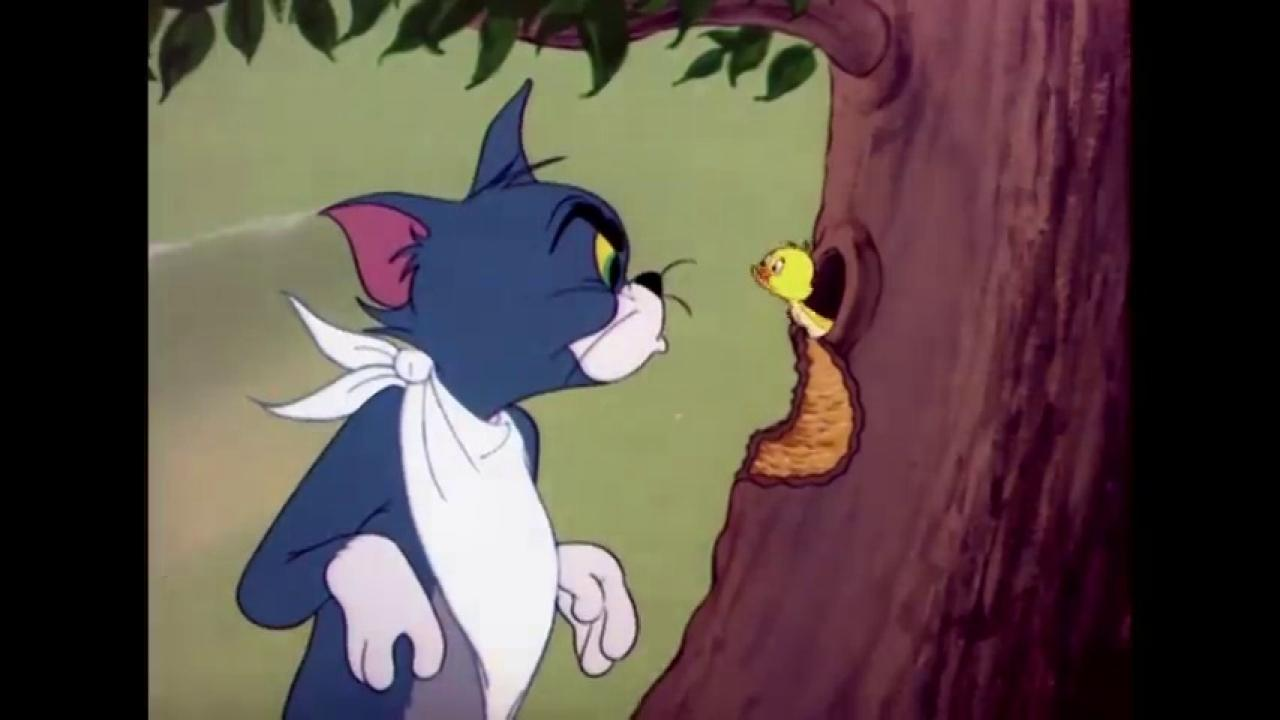Tom: (234, 76, 669, 720)
